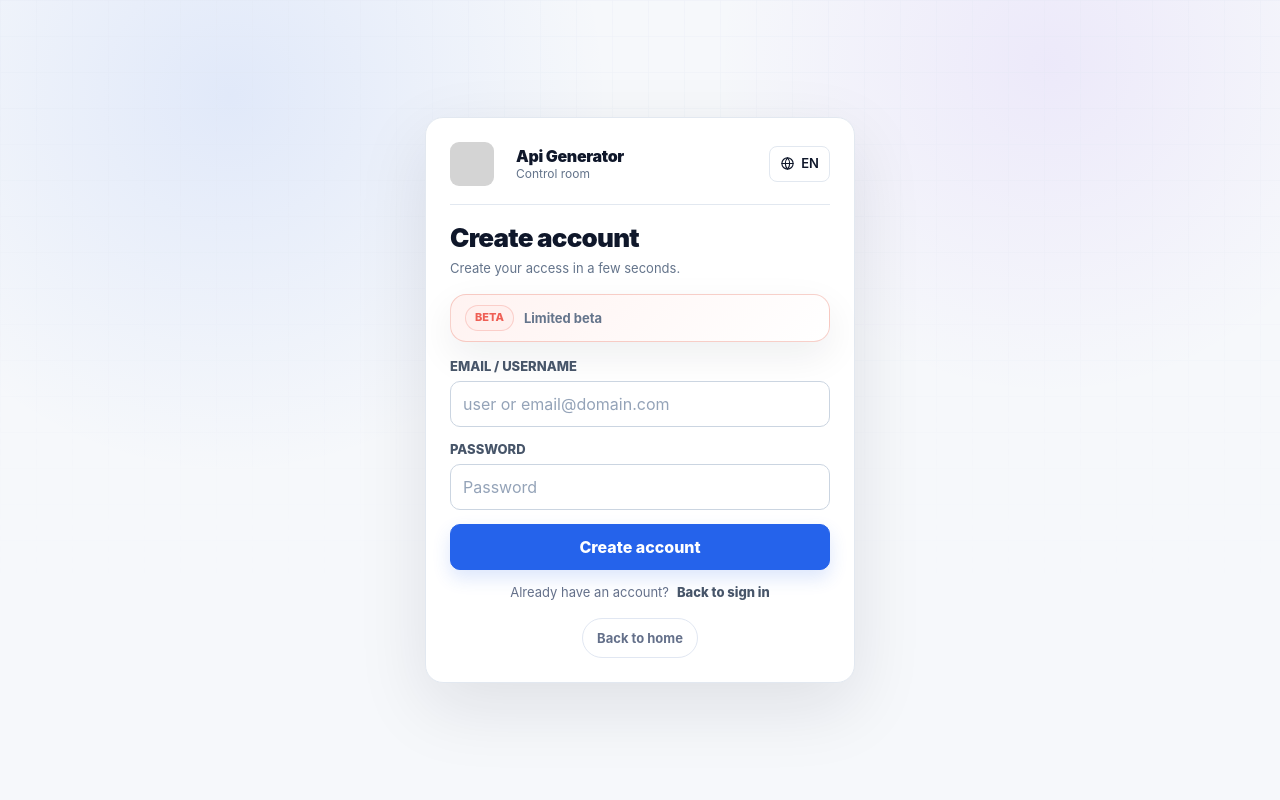
it: Login › shows a clearer message when verification email cannot be sent after registration
The width and height of the screenshot is (1280, 800).
Type "beta@example.com" into the field labelled "Email / username" at (640, 404), box [450,381,830,427]
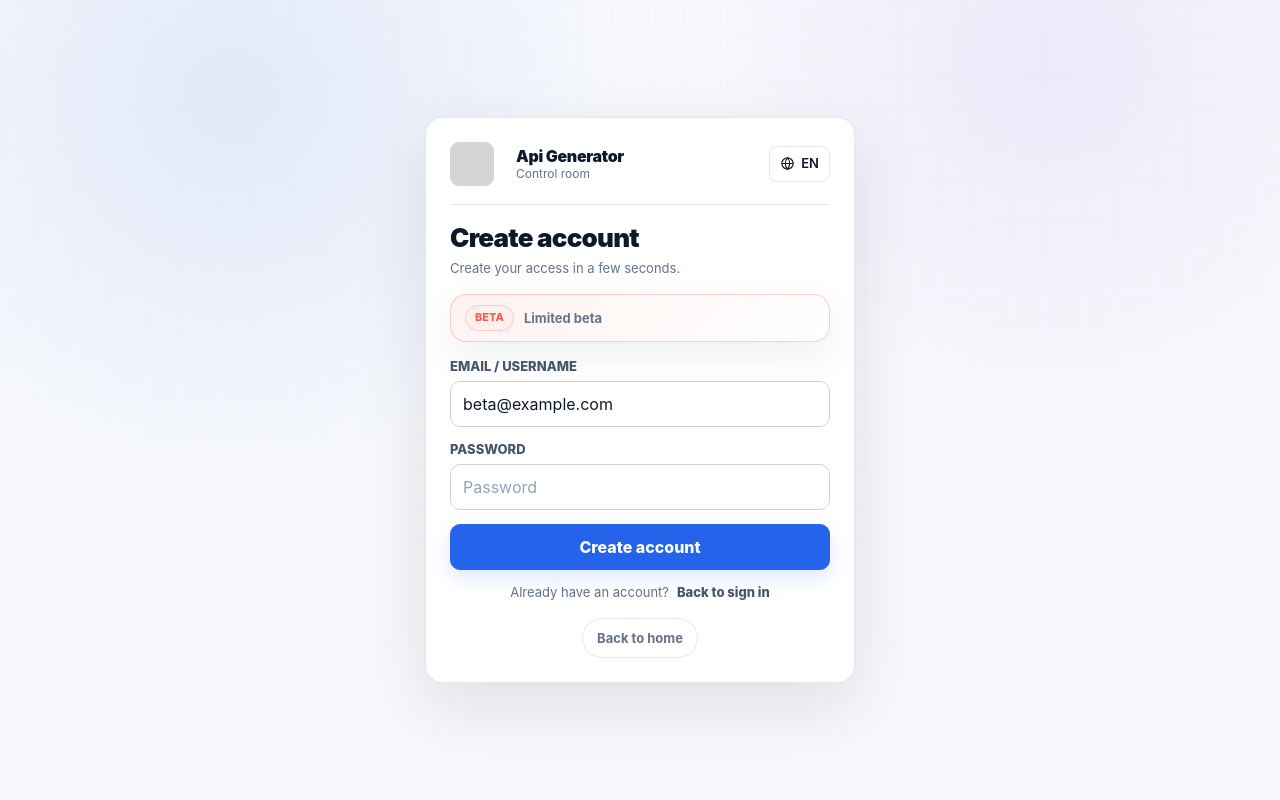
Type "strong-password" into the password field labelled "Password" at (640, 487), box [450,464,830,510]
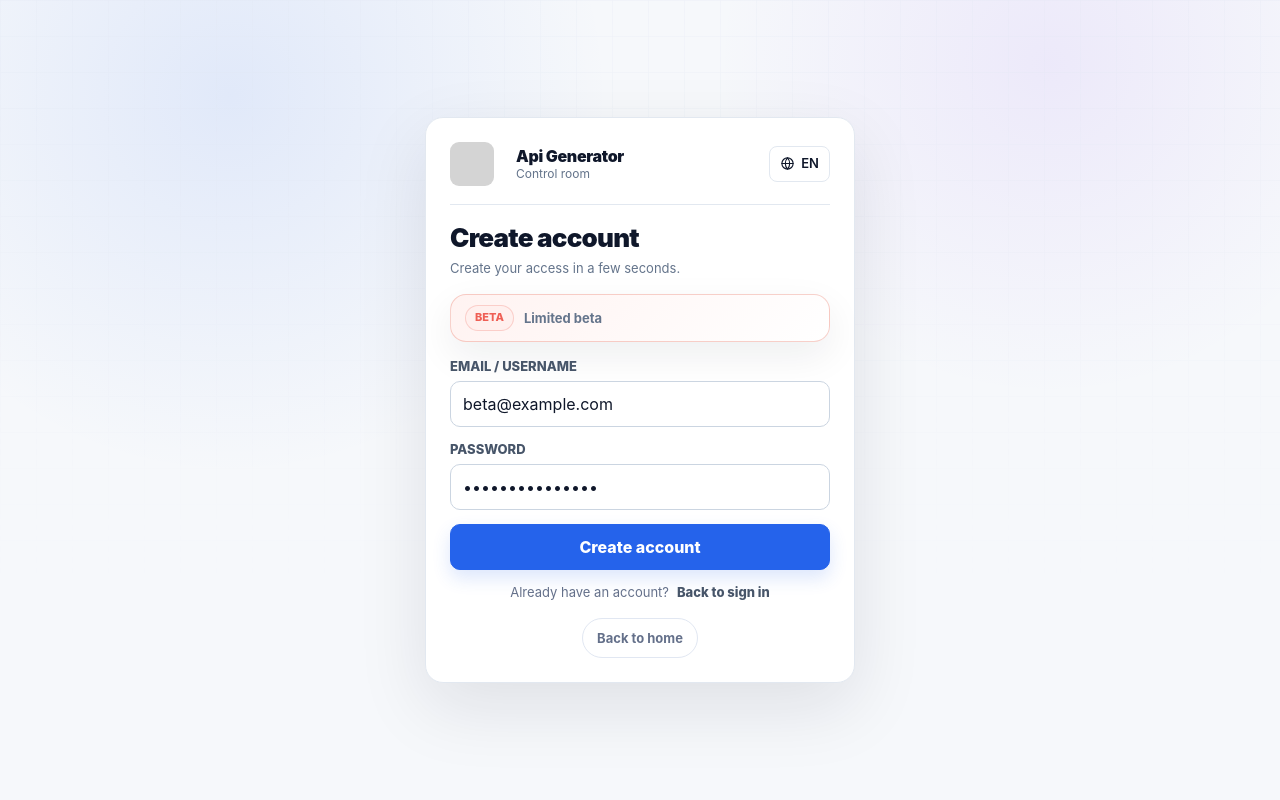
Click the button "Create account" at (640, 547), box [450,524,830,570]
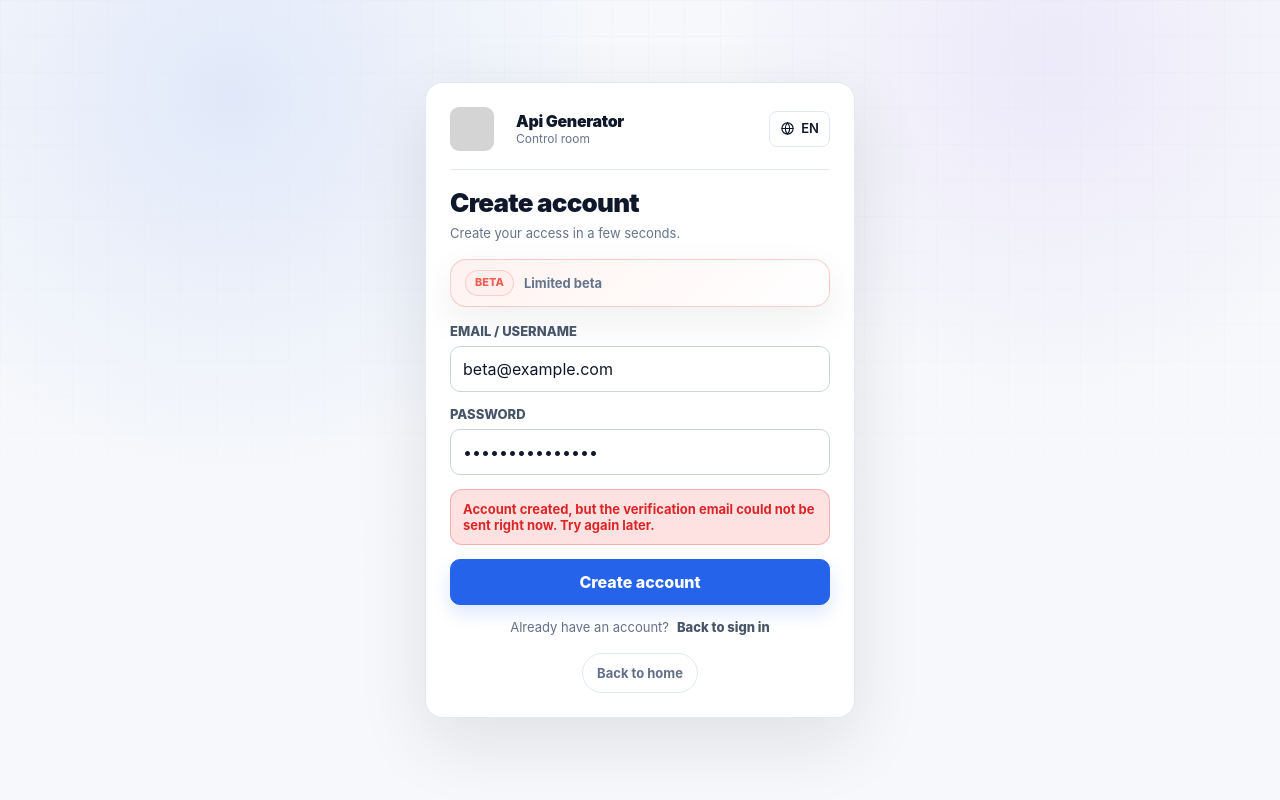
expect the text "Account created, but the verification email could not be sent right now. Try again later." is shown: met, box [463,501,814,533]
